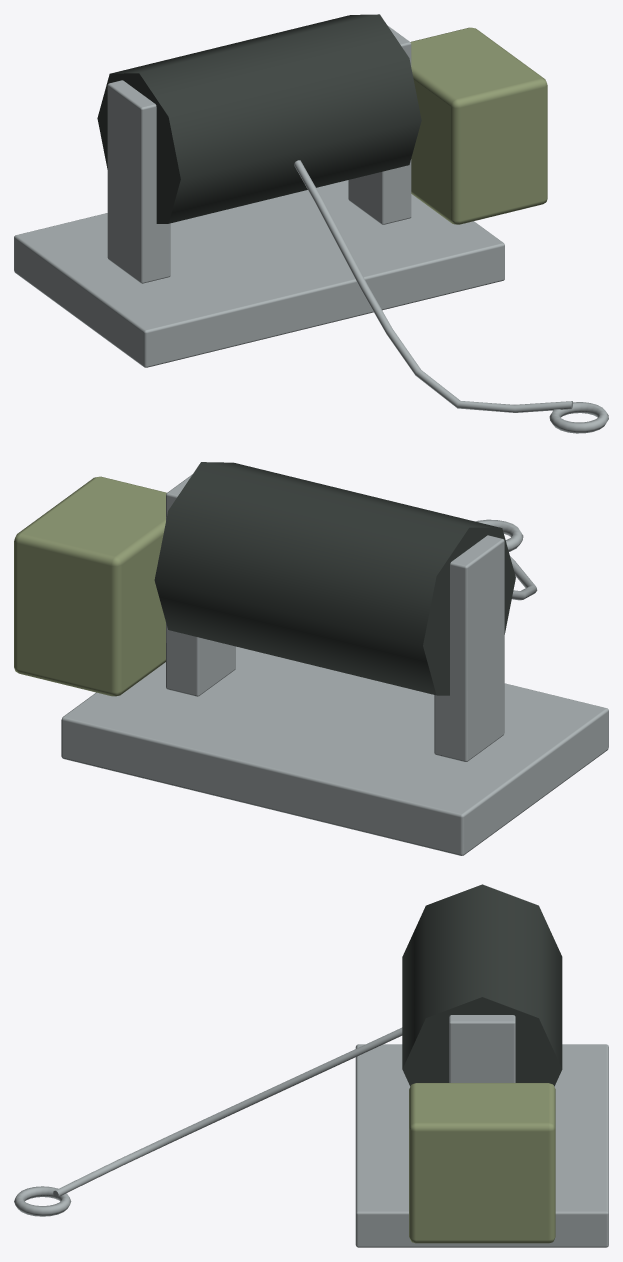
Rendered from extraction-routes-and-objectives-rescue-winch-1189b8a5__22180.glb.
The picture shows the model from 3 angles, top to bottom: view 1: azimuth 30°, elevation 25°; view 2: azimuth 150°, elevation 25°; view 3: azimuth 270°, elevation 25°; orthographic projection. The views are drawn at different scales.
Visible parts, largest first — view 1: rescue-winch; view 2: rescue-winch; view 3: rescue-winch.
Part boxes in pixels (x1,y1,x2,y2): rescue-winch: [14, 14, 608, 433]; rescue-winch: [14, 462, 608, 855]; rescue-winch: [14, 884, 608, 1247].
Bounding box in the file's own units: 0.72 × 0.37 × 0.893.
